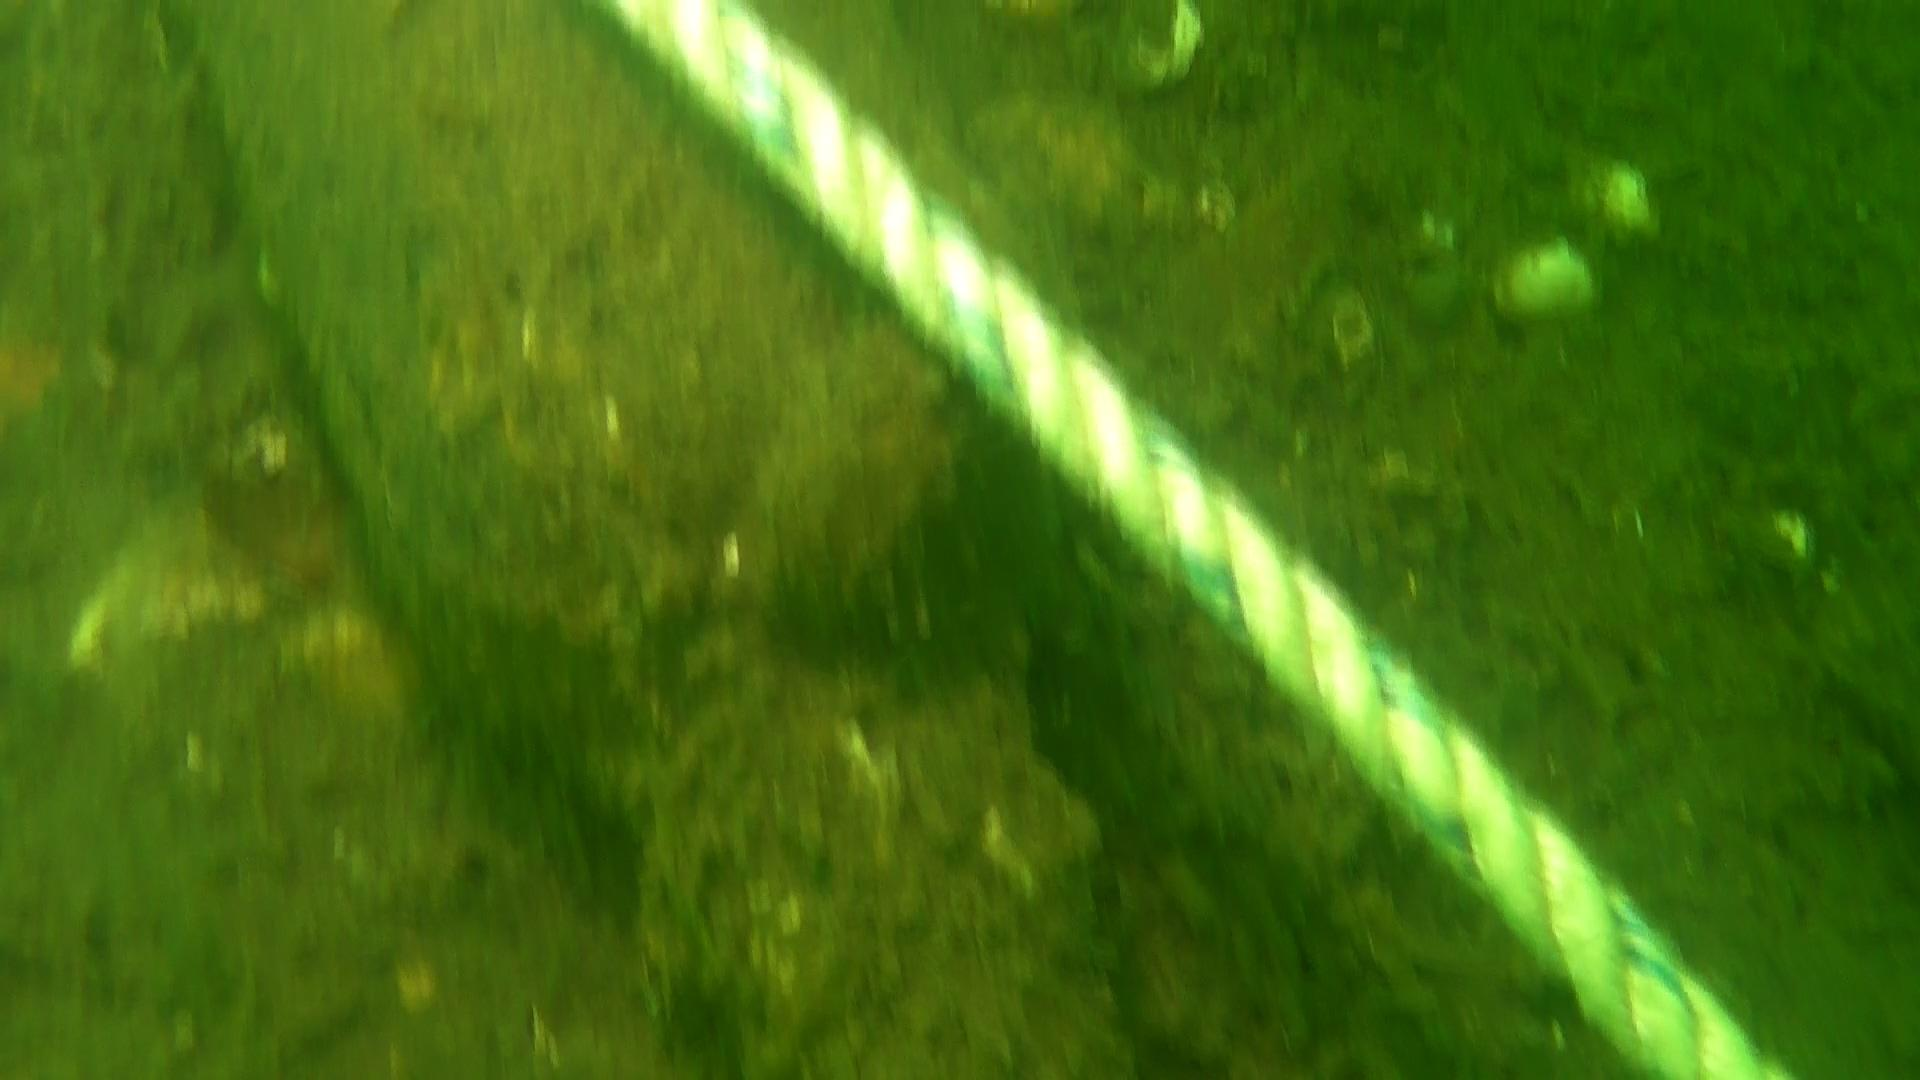rope: (585, 0, 1803, 1080)
